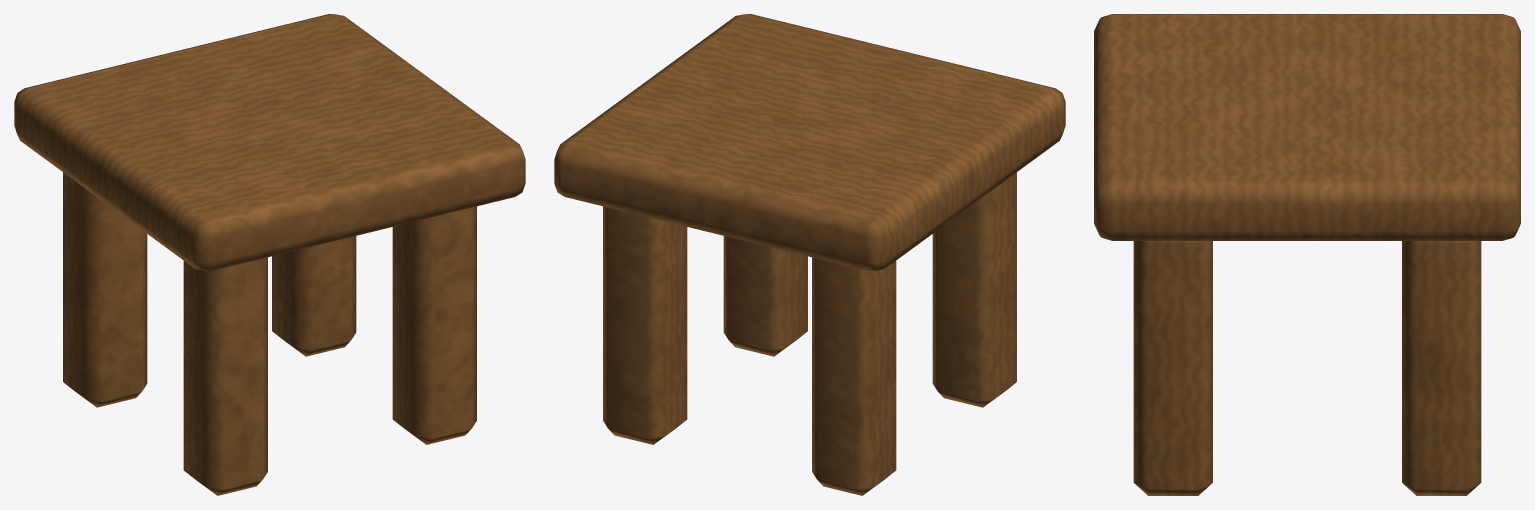
File: Furn_WashStool.fbx
3 renders of one model, left to right at view 1: azimuth 30°, elevation 25°; view 2: azimuth 150°, elevation 25°; view 3: azimuth 270°, elevation 25°, orthographic. The views are drawn at different scales.
Visible parts, largest first — view 1: Furn_WashStool_Mesh; view 2: Furn_WashStool_Mesh; view 3: Furn_WashStool_Mesh.
Part boxes in pixels (box(x1,y1,x2,y2)): Furn_WashStool_Mesh: box(14, 14, 525, 495); Furn_WashStool_Mesh: box(554, 14, 1065, 495); Furn_WashStool_Mesh: box(1094, 14, 1520, 495).
Bounding box in the file's own units: 0.35 × 0.3 × 0.35.
1 material, 1 textured.
